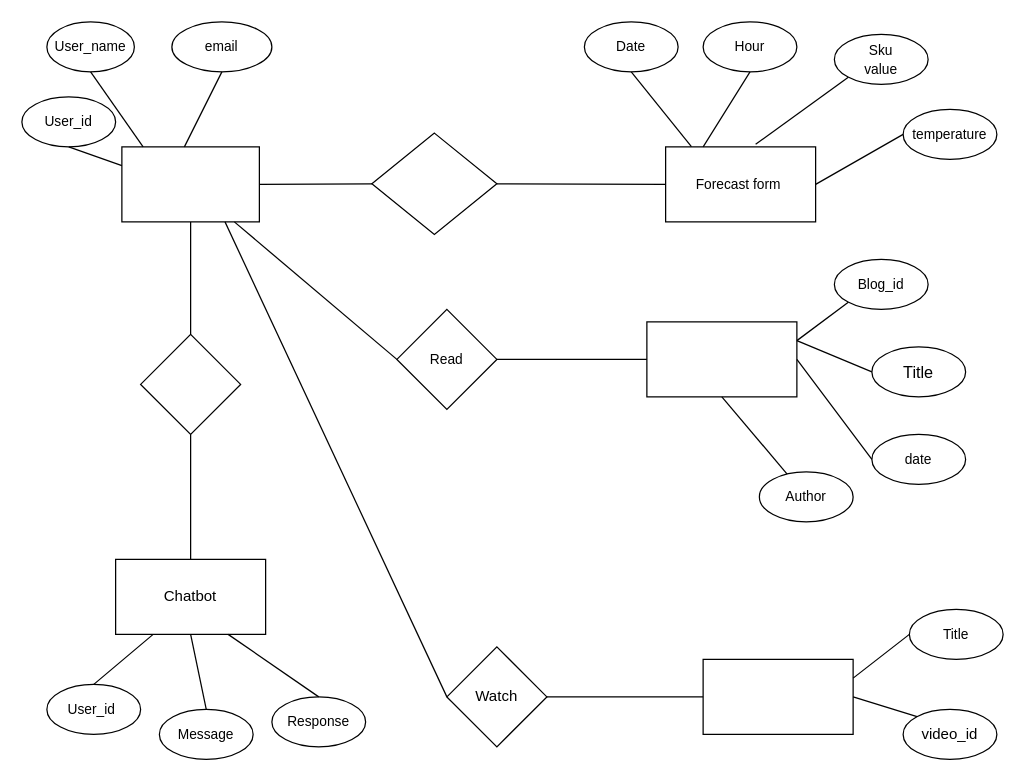
Some shapes in this 1025 by 781 pixel diagram are drawn without their labels. Each missing label, with the centre of its shape:
"Blogs/upcoming events" goes at point 721,359.
"Generate forecast" goes at point 434,183.
"Interacts with" goes at point 190,383.
"User" goes at point 190,184.
"Video tutorial" goes at point 777,696.
